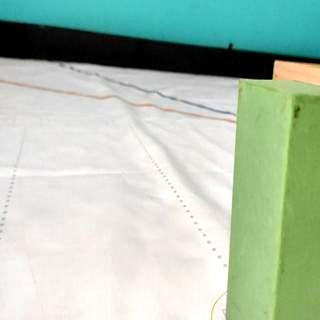greenbox: (227, 76, 320, 320)
